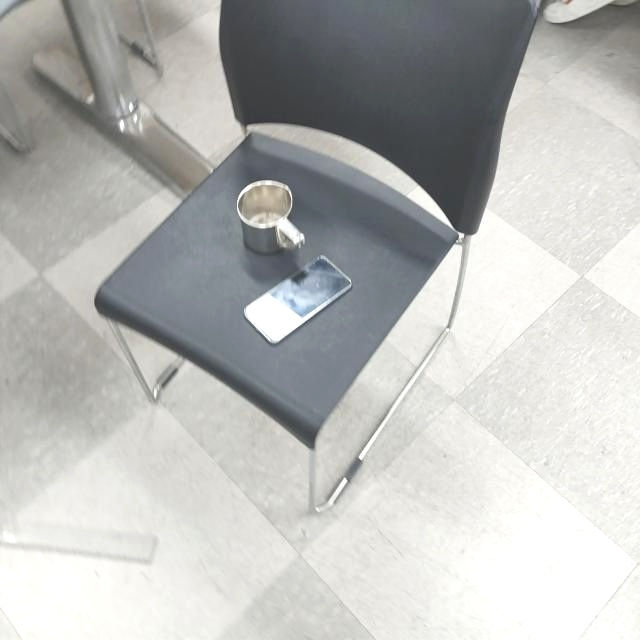cup: (235, 178, 308, 256)
phone: (241, 253, 353, 345)
